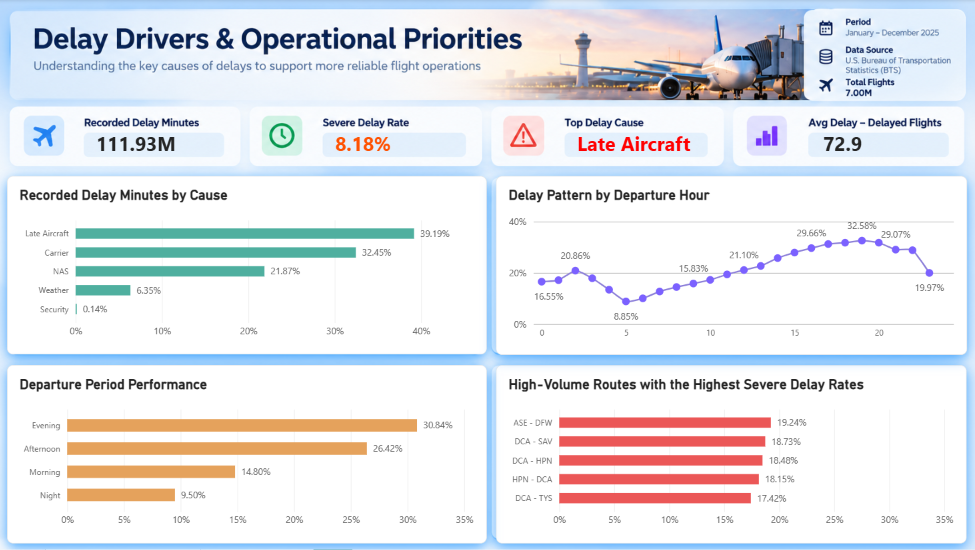

What the dashboard file says about the page in this screenshot:
{"tool":"powerbi","page":{"name":"Delay Drivers","canvas":[1280,720],"ordinal":1},"visuals":[{"type":"cardVisual","fields":{"Data":["vw_delay_cause_summary.Recorded Delay Minutes"]},"box":[114,174.4,151.4,28.8],"z":0},{"type":"cardVisual","fields":{"Data":["vw_airline_performance.Avg Delay - Delayed Flights"]},"box":[1064.8,174.4,151.4,28.8],"z":1000},{"type":"cardVisual","fields":{"Data":["vw_delay_cause_summary.Top Delay Cause"]},"box":[742.9,174.3,182.1,28.6],"z":2000},{"type":"cardVisual","fields":{"Data":["vw_monthly_performance.Severe Delay Rate"]},"box":[425.9,174.4,151.4,28.8],"z":3000},{"type":"clusteredBarChart","title":"Recorded Delay Minutes by Cause","fields":{"Category":["vw_delay_cause_summary.delay_cause"],"Y":["vw_delay_cause_summary.Delay Cause Share"]},"box":[13.4,231.4,627.1,233.1],"z":4000},{"type":"clusteredBarChart","title":"High-Volume Routes with the Highest Severe Delay Rates","fields":{"Category":["vw_route_performance.route"],"Y":["vw_route_performance.Route Severe Delay Rate"]},"box":[652.3,477.9,615.4,233.1],"z":5000},{"type":"clusteredBarChart","title":"Departure Period Performance","fields":{"Category":["vw_departure_period_performance.departure_period"],"Y":["vw_departure_period_performance.Departure Period Delay Rate"]},"box":[13.4,477.9,627.1,233.1],"z":6000},{"type":"lineChart","title":"Delay Pattern by Departure Hour","fields":{"Category":["vw_departure_hour_performance.scheduled_dep_hour"],"Y":["vw_departure_hour_performance.Departure Hour Delay Rate"]},"box":[652,232,616,234],"z":7000}]}

Visuals, with their boxes in screenshot pixels (x1, y1, x2, y2), scaled from the page's 1280x720 canvas onto the 975x550 screenshot:
cardVisual - vw_delay_cause_summary.Recorded Delay Minutes: 87,133,202,155
cardVisual - vw_airline_performance.Avg Delay - Delayed Flights: 811,133,926,155
cardVisual - vw_delay_cause_summary.Top Delay Cause: 566,133,705,155
cardVisual - vw_monthly_performance.Severe Delay Rate: 324,133,440,155
"Recorded Delay Minutes by Cause" clusteredBarChart: 10,177,488,355
"High-Volume Routes with the Highest Severe Delay Rates" clusteredBarChart: 497,365,966,543
"Departure Period Performance" clusteredBarChart: 10,365,488,543
"Delay Pattern by Departure Hour" lineChart: 497,177,966,356
